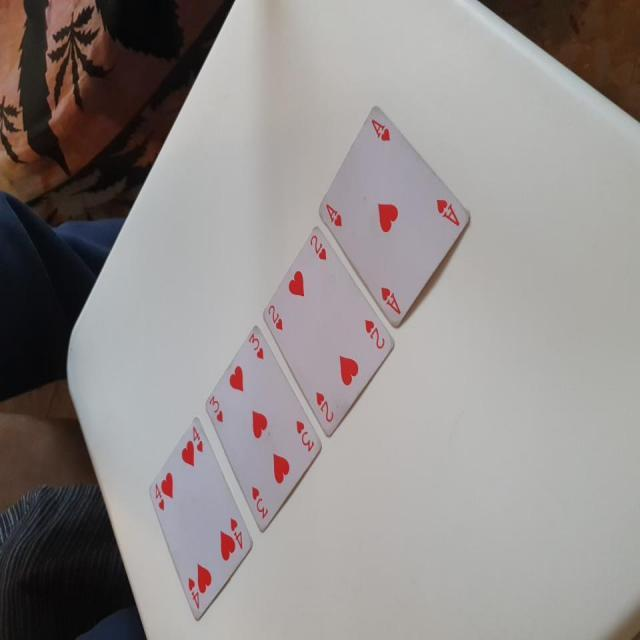2 of hearts: (260, 221, 400, 442)
3 of hearts: (205, 330, 325, 530)
4 of hearts: (146, 419, 252, 626)
ace of hearts: (316, 96, 474, 332)
